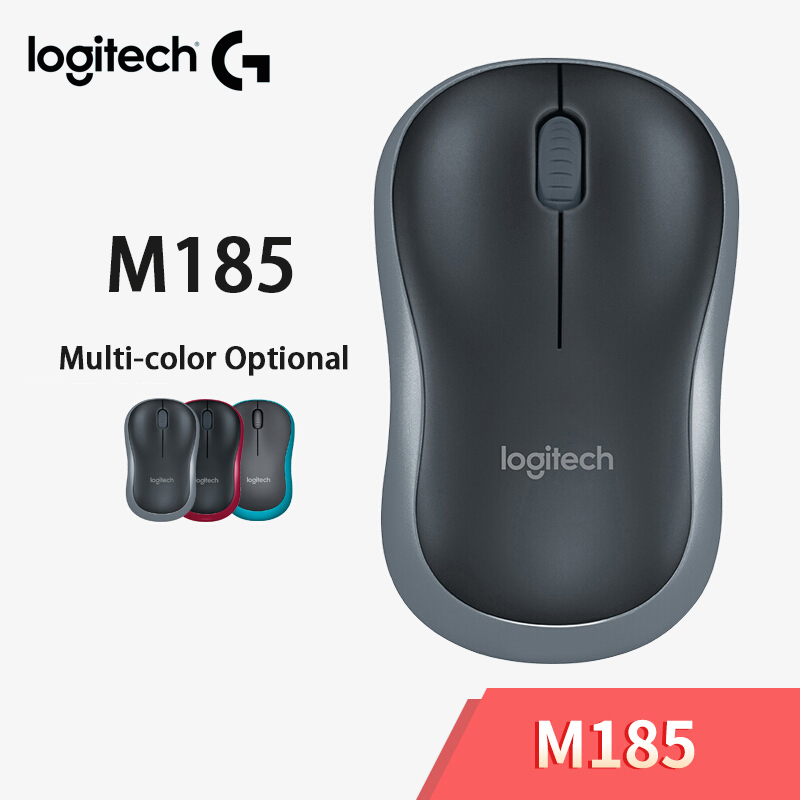logitech-mouse-m185: (374, 63, 737, 663)
